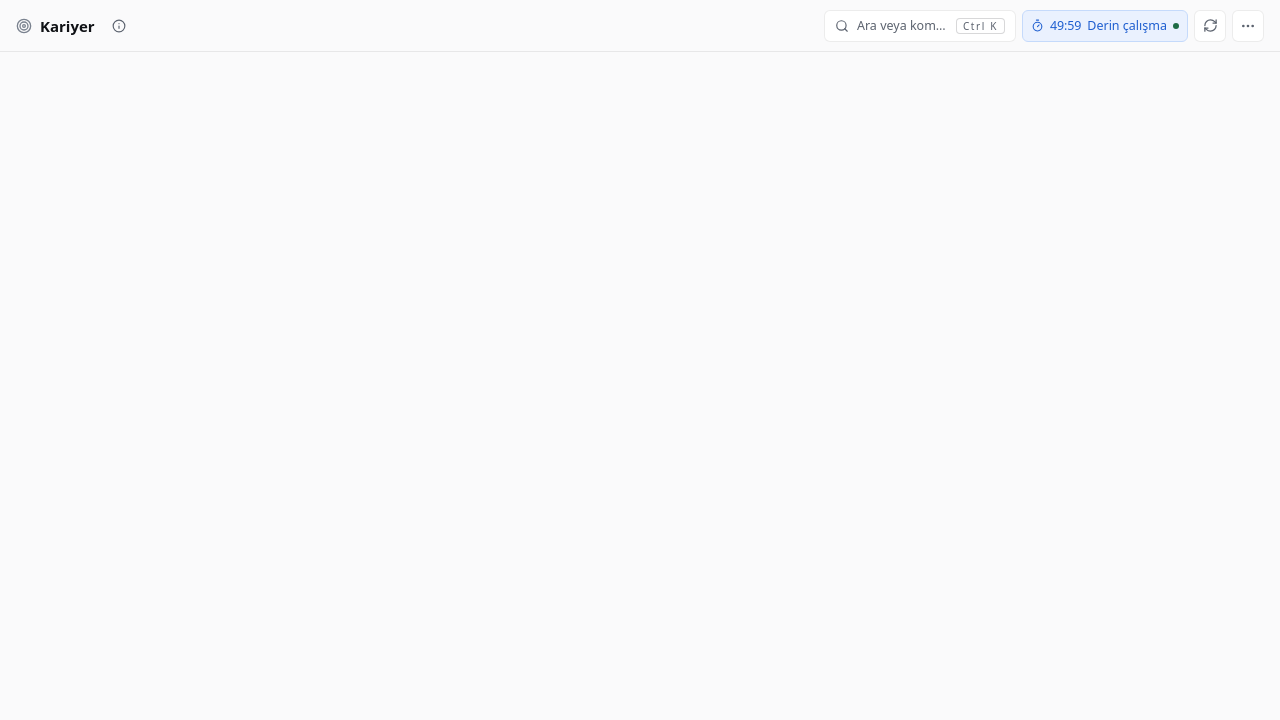
Test case: WorkspaceHeader üst şerit hizası › ikon kontrolleri 32x32, komut besteleyicisi h-8 ama kare değil
# Tema değiştirici taşma menüsü içinde yer alır
Click the button named "Yenileme kapsamı ve durumu" at (1248, 26), box [1232,10,1264,42]
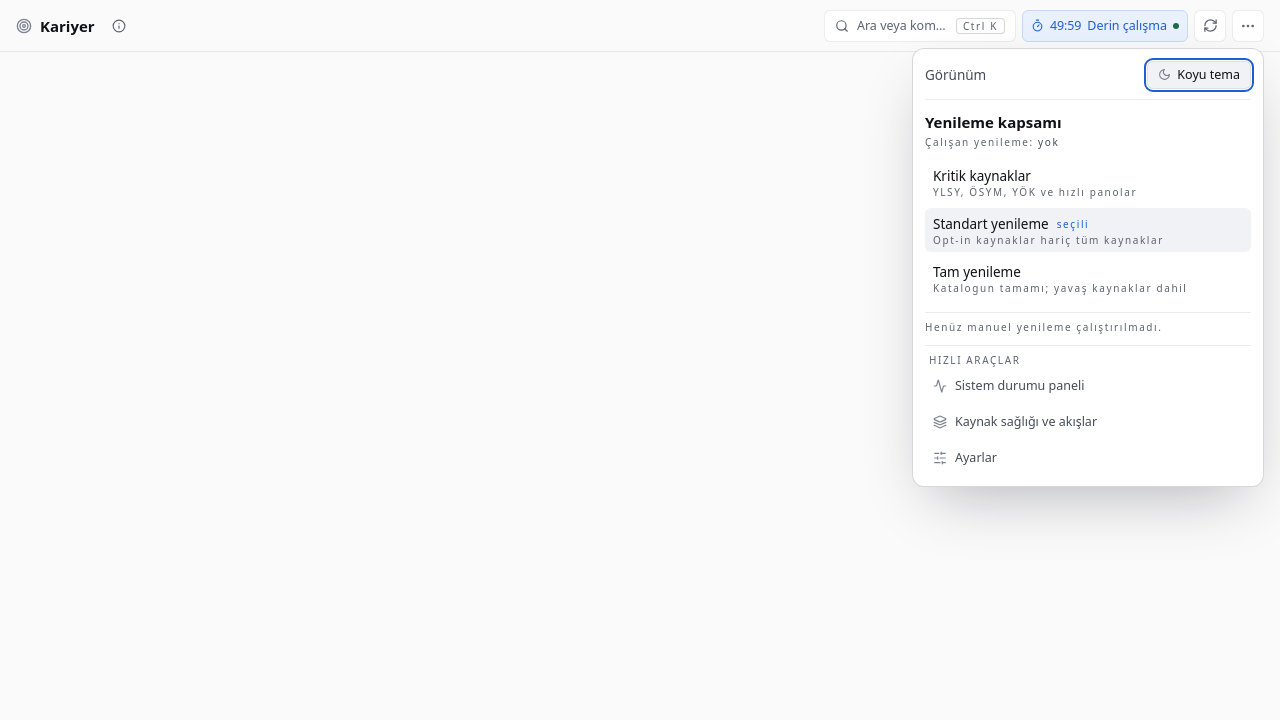
Check: the button with aria-label "Temayı değiştir" is shown, box [1147,60,1251,88]
